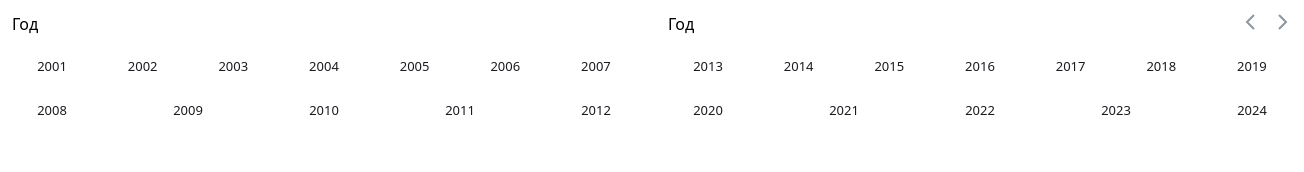
Test case: Компонент CalendarYearsRange › При клике на левую стрелку, каждое двенадцатилетие смещается назад ((2001-2012,2013-2024) -> (1989-2000, 2001-2012))
Click the 1st button: (1250,22) [1240,12,1260,32]
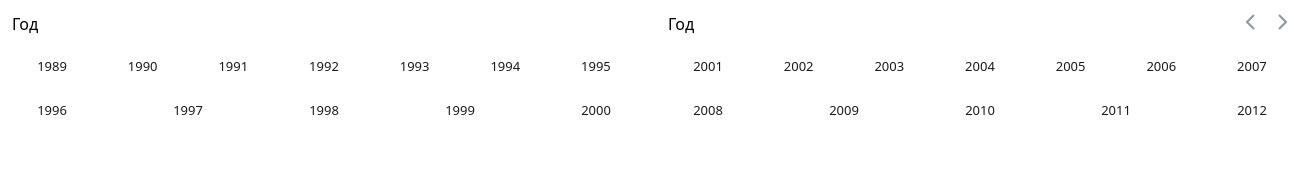
Expected: the text "1989" is shown, [37,56,67,76]
Expected: the text "1990" is shown, [128,56,158,76]
Expected: the text "1991" is shown, [218,56,248,76]
